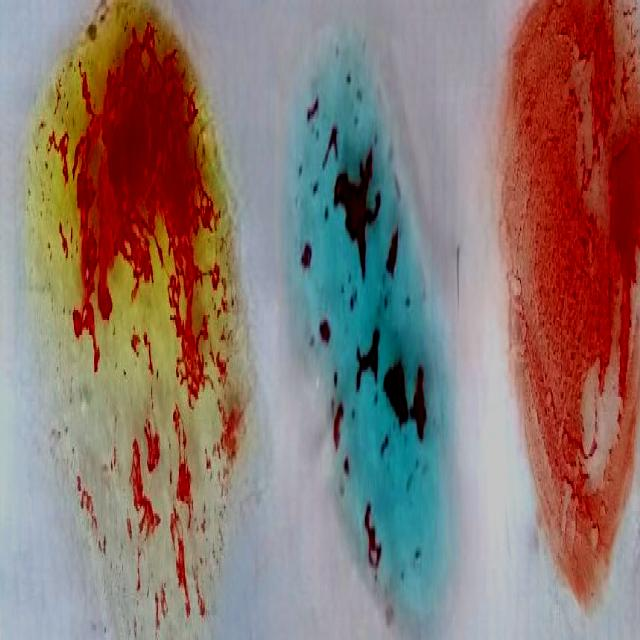A: (292, 40, 438, 640)
B: (44, 1, 234, 625)
D: (503, 1, 638, 608)
